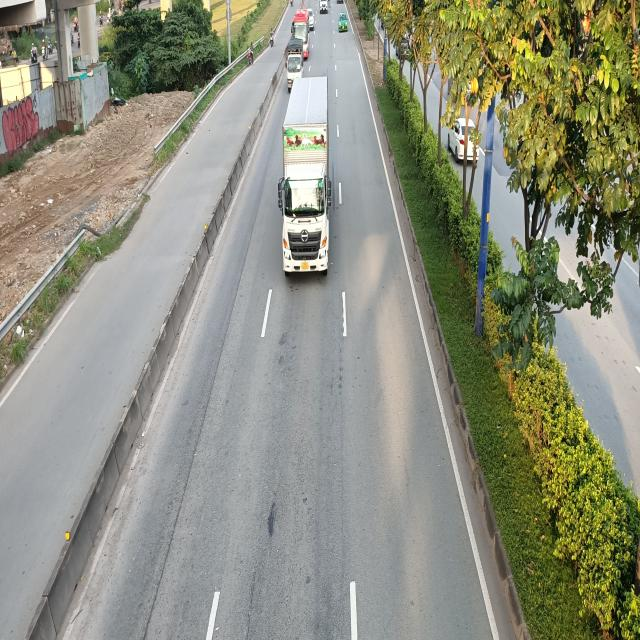coach: (293, 9, 309, 61)
truck: (280, 74, 336, 276)
